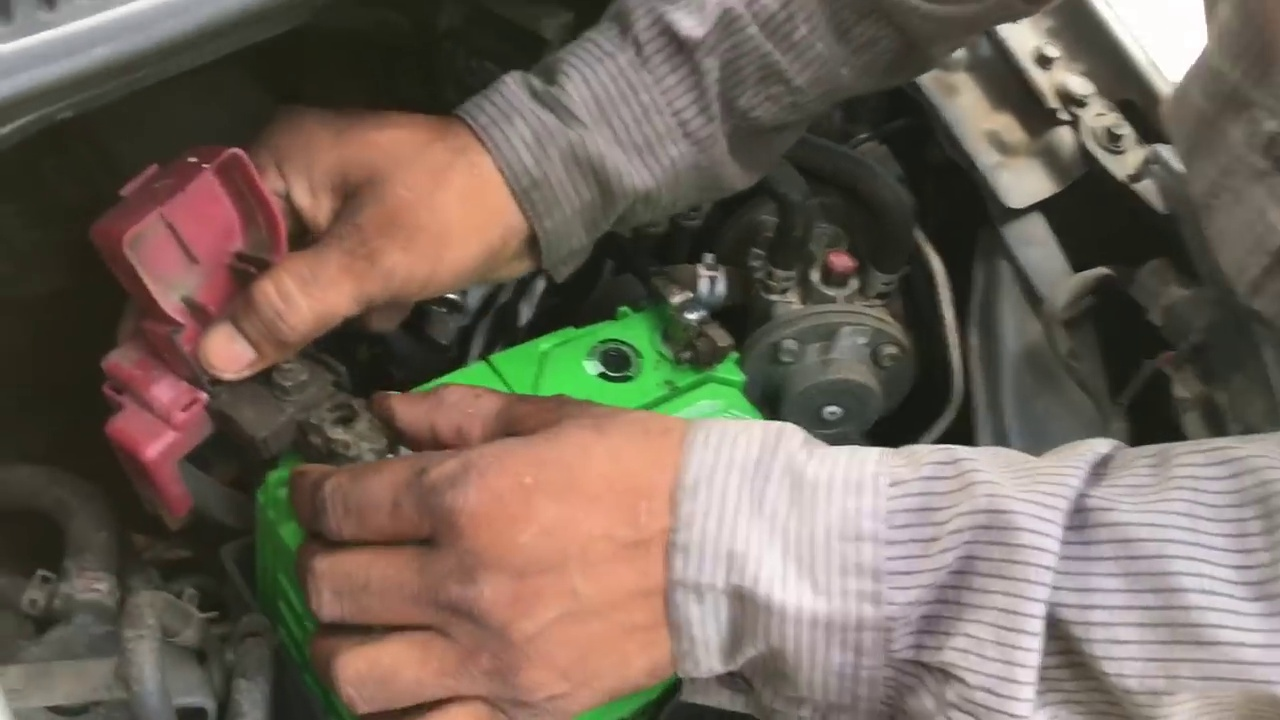battery: (253, 303, 781, 710)
neg_connected: (620, 233, 743, 394)
pos_touched: (76, 172, 476, 518)
